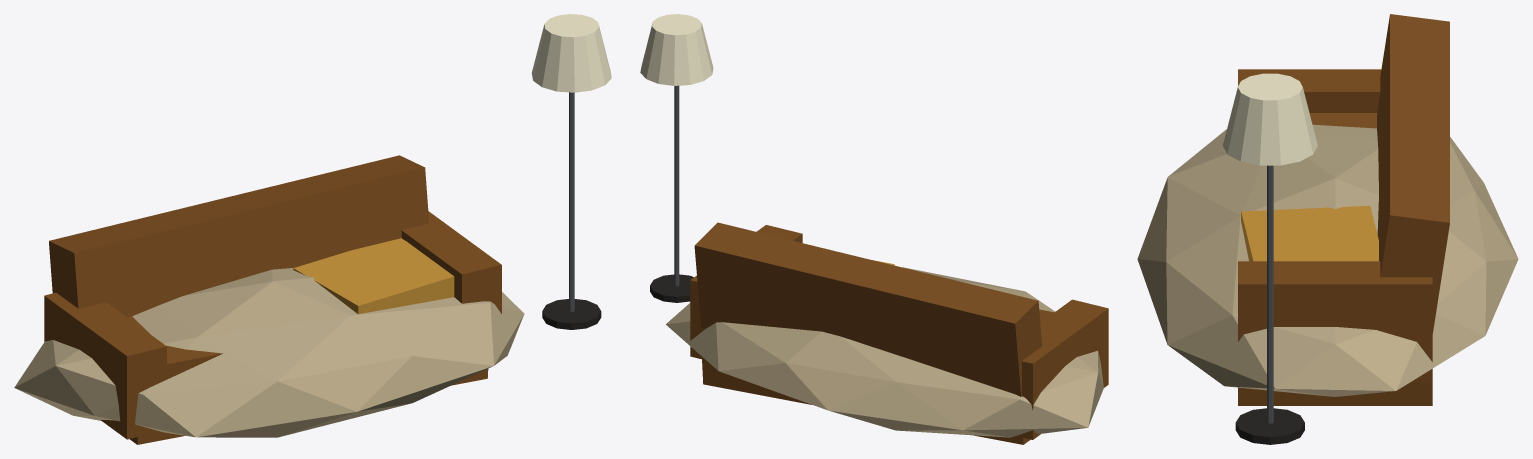
The model's file is wash_sofa.glb.
3 views of the same model, side by side, from view 1: azimuth 30°, elevation 25°; view 2: azimuth 150°, elevation 25°; view 3: azimuth 270°, elevation 25° (orthographic). The views are drawn at different scales.
Visible parts, largest first — view 1: wash_sofa; view 2: wash_sofa; view 3: wash_sofa.
Boxes of the visible parts, x1,y1,x2,y2 form: wash_sofa: [14, 14, 611, 444]; wash_sofa: [640, 14, 1108, 444]; wash_sofa: [1137, 14, 1518, 444].
Size of the model in its own units: 3.37 by 1.91 by 1.76.
